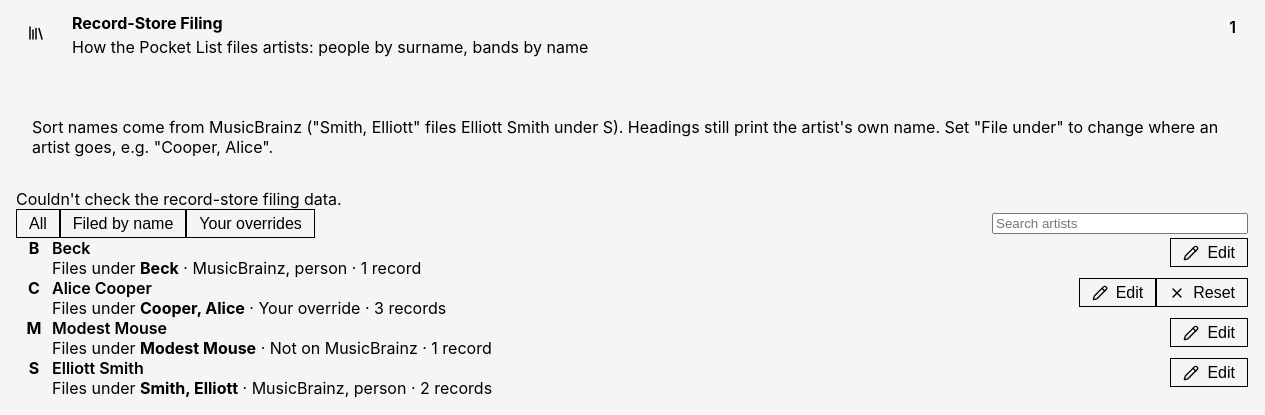
Scenario: SettingsFilingSection › filters and searches
Check: the 1st text "Modest Mouse" is shown, box [52, 318, 167, 338]
Click the button "Filed by name".
click(123, 224)  # box [60, 209, 186, 238]
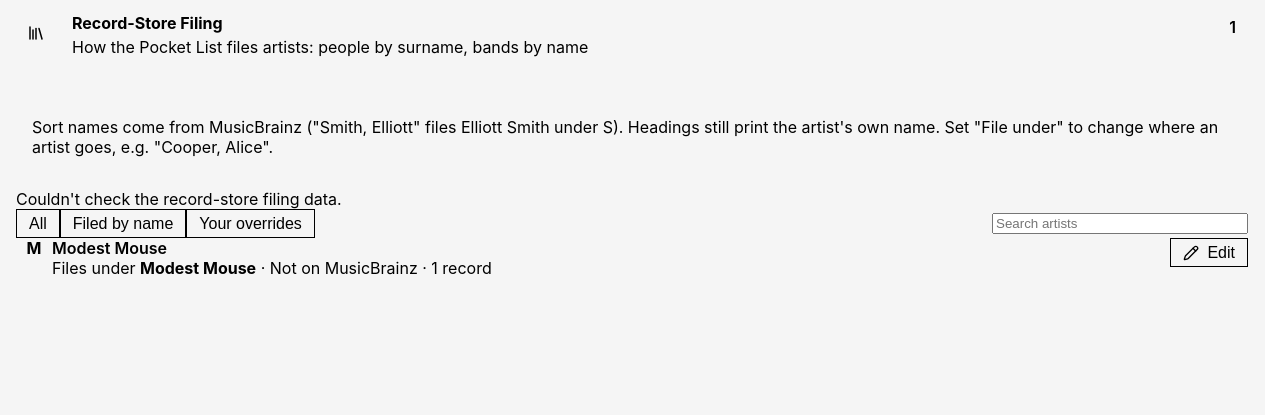
Click the button "All".
click(38, 224)  # box [16, 209, 60, 238]
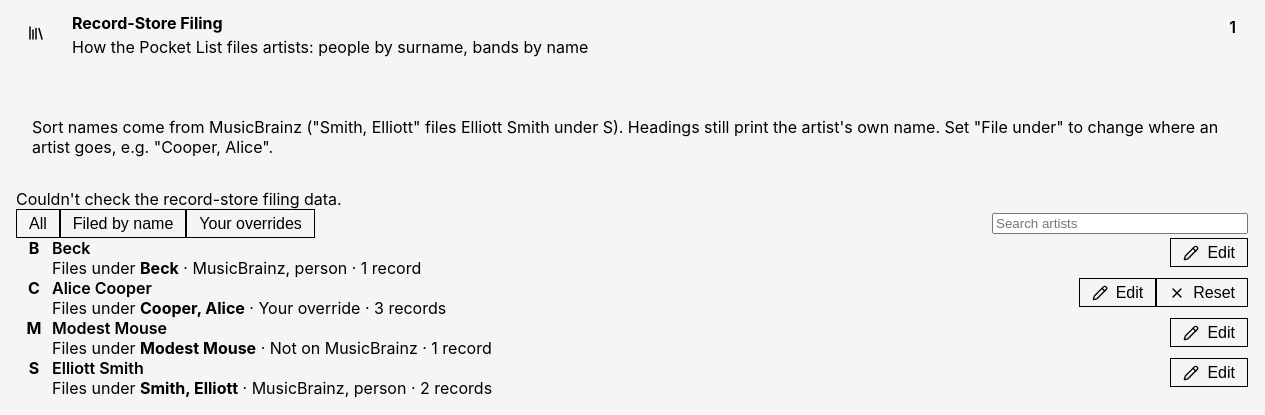
Type "smith" into the search field labelled "Search artists".
click(1120, 224); type("smith")  # box [992, 213, 1248, 234]
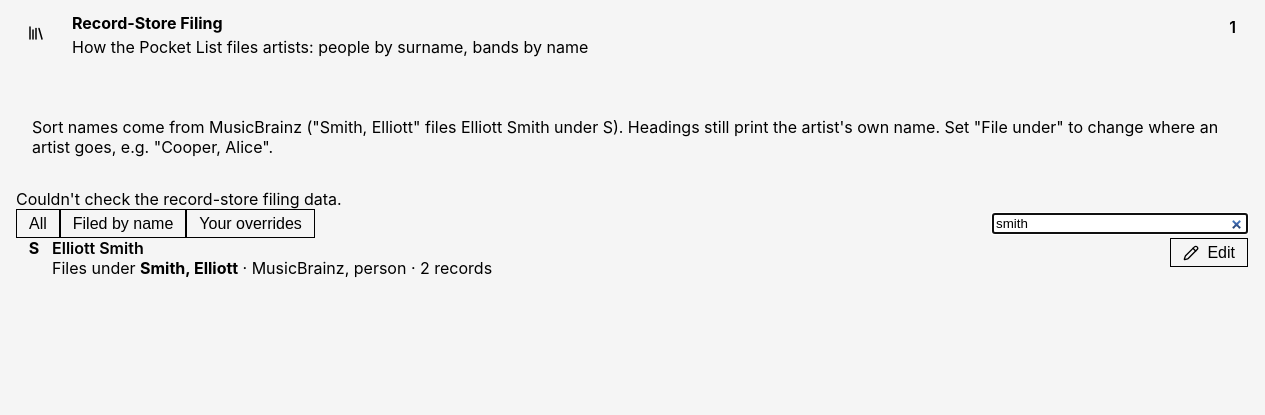
Check: the list item shows "Elliott Smith", box [52, 238, 144, 258]
Check: the number of list items is 1, box [16, 238, 1248, 278]
Clear the search field named "Search artists" at (1120, 224), box [992, 213, 1248, 234]
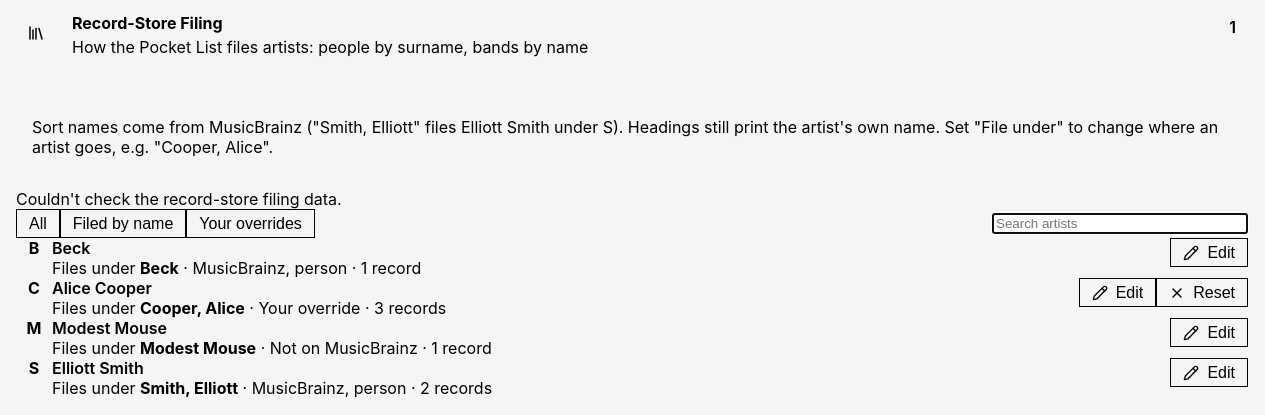
Click the button "Your overrides".
click(251, 224)  # box [186, 209, 315, 238]
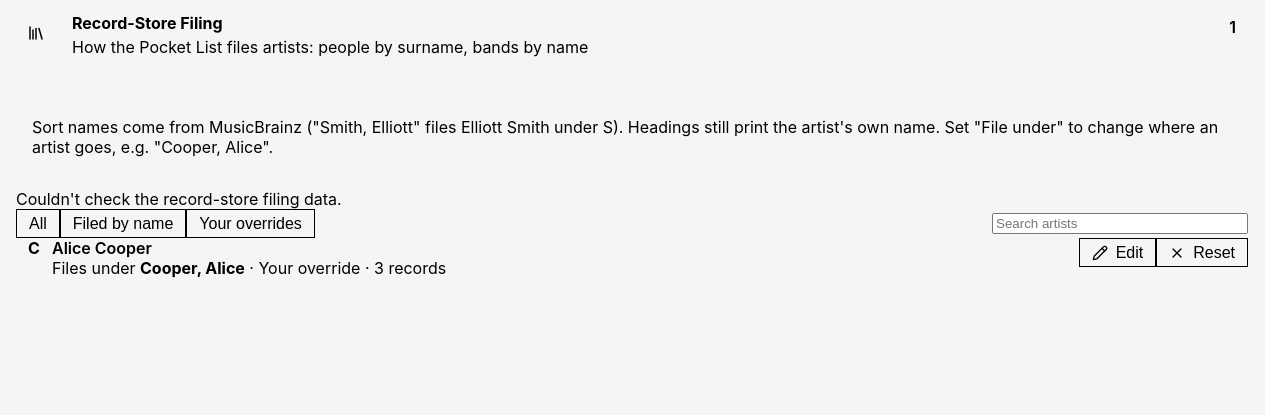
Check: the list item shows "Alice Cooper", box [52, 238, 152, 258]
Check: the number of list items is 1, box [16, 238, 1248, 278]
